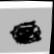correct: (4, 17, 47, 48)
